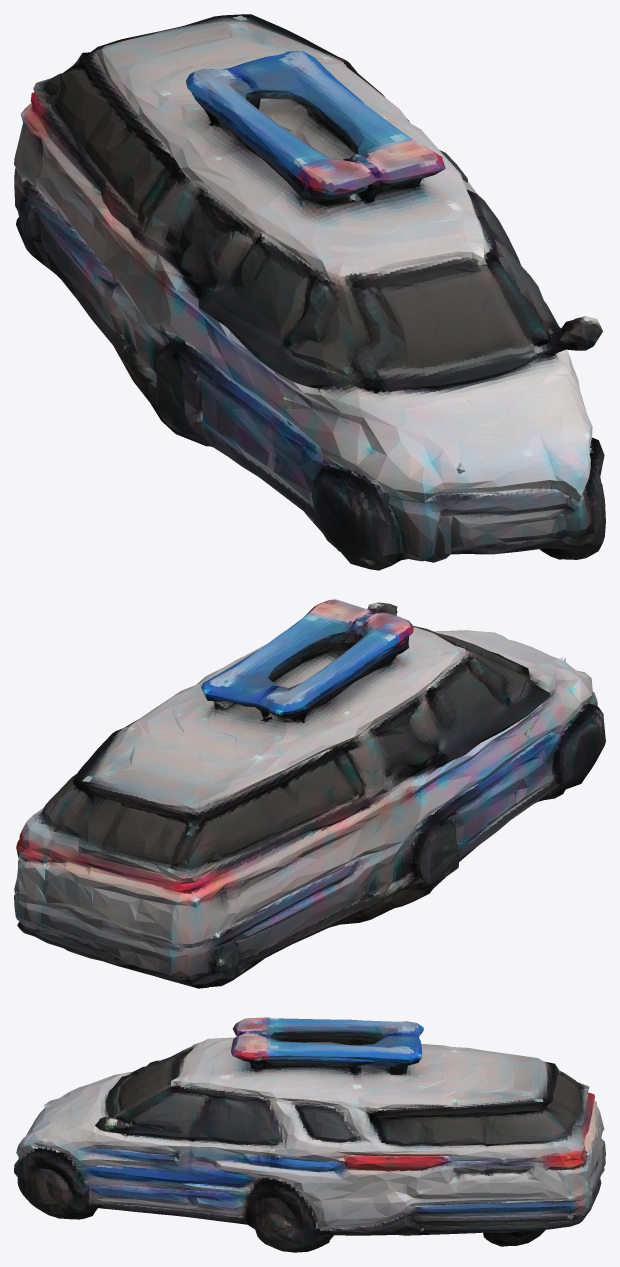
File: police-car.obj
3 renders of one model, top to bottom at view 1: azimuth 30°, elevation 25°; view 2: azimuth 150°, elevation 25°; view 3: azimuth 270°, elevation 25°, orthographic. The views are drawn at different scales.
Size of the model in its own units: 1.9 by 1.5 by 4.6.
1 material, 1 textured.
